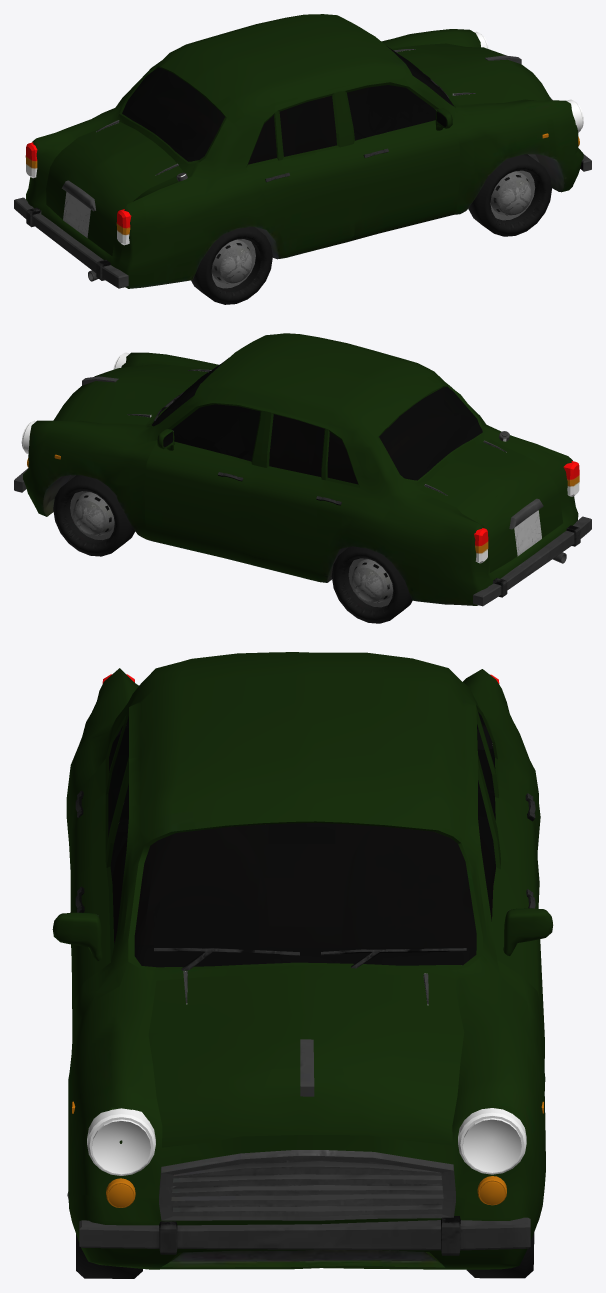
Rendered from ambassador.glb.
3 views of the same model, one above another, from view 1: azimuth 30°, elevation 25°; view 2: azimuth 150°, elevation 25°; view 3: azimuth 270°, elevation 25° (orthographic). The views are drawn at different scales.
Visible parts, largest first — view 1: AmbassadorBody, FrontWheelR, RearWheelR; view 2: AmbassadorBody, FrontWheelL, RearWheelL; view 3: AmbassadorBody, FrontWheelR, FrontWheelL.
Part boxes in pixels (<box>): AmbassadorBody: <box>14,14,591,288</box>; FrontWheelR: <box>468,154,551,236</box>; RearWheelR: <box>191,226,272,304</box>; AmbassadorBody: <box>14,333,591,606</box>; FrontWheelL: <box>53,475,135,556</box>; RearWheelL: <box>331,546,412,623</box>; AmbassadorBody: <box>52,652,553,1269</box>; FrontWheelR: <box>67,1192,142,1278</box>; FrontWheelL: <box>466,1233,534,1278</box>.
Bounding box in the file's own units: 4.41 × 1.71 × 2.01.
Materials: 2 (1 with a texture image).
